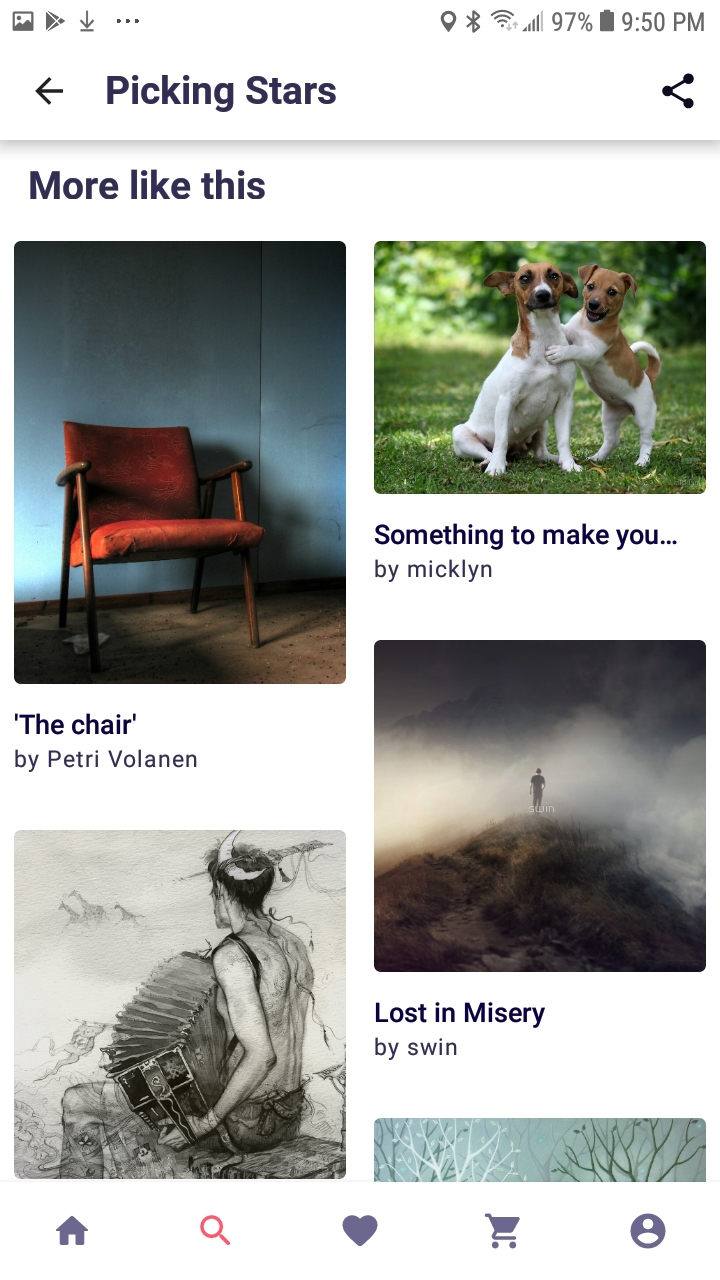Icon: (630, 1212, 666, 1249), (484, 1212, 520, 1249), (662, 73, 695, 110), (343, 1214, 379, 1246), (199, 1214, 231, 1245), (56, 1215, 89, 1245), (36, 78, 65, 107)
Image: (14, 241, 347, 685), (15, 830, 347, 1180), (374, 640, 706, 973), (374, 241, 706, 495), (374, 1118, 706, 1182)
Text: (107, 75, 337, 114), (375, 523, 678, 551), (30, 169, 266, 201), (376, 1001, 546, 1029), (15, 748, 198, 773), (374, 559, 492, 584), (15, 713, 137, 736), (374, 1037, 457, 1061)
UpperTaskBar: (1, 1, 720, 34)
